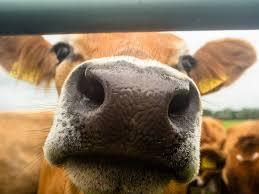cow: (1, 32, 257, 194), (219, 119, 259, 194)
